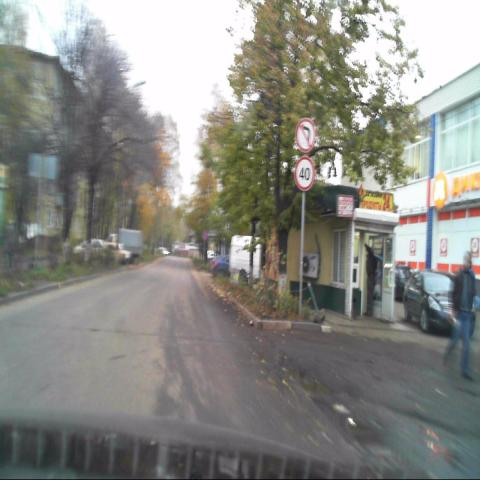3_18_2: (295, 118, 315, 152)
